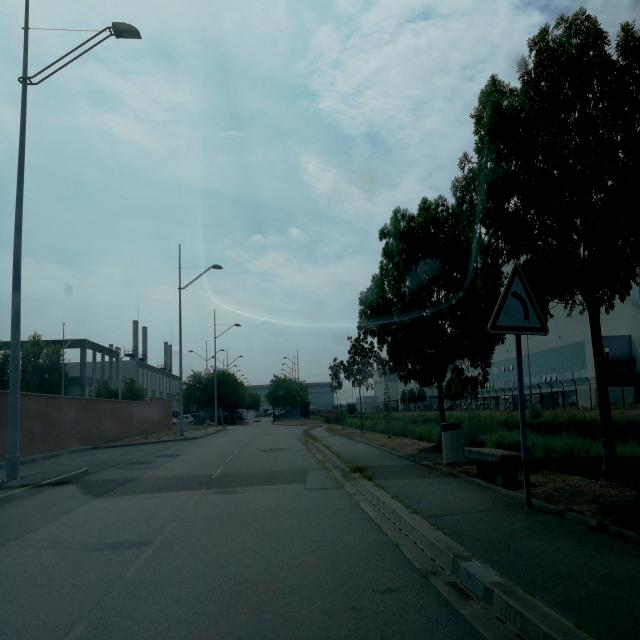car: (171, 412, 195, 427)
